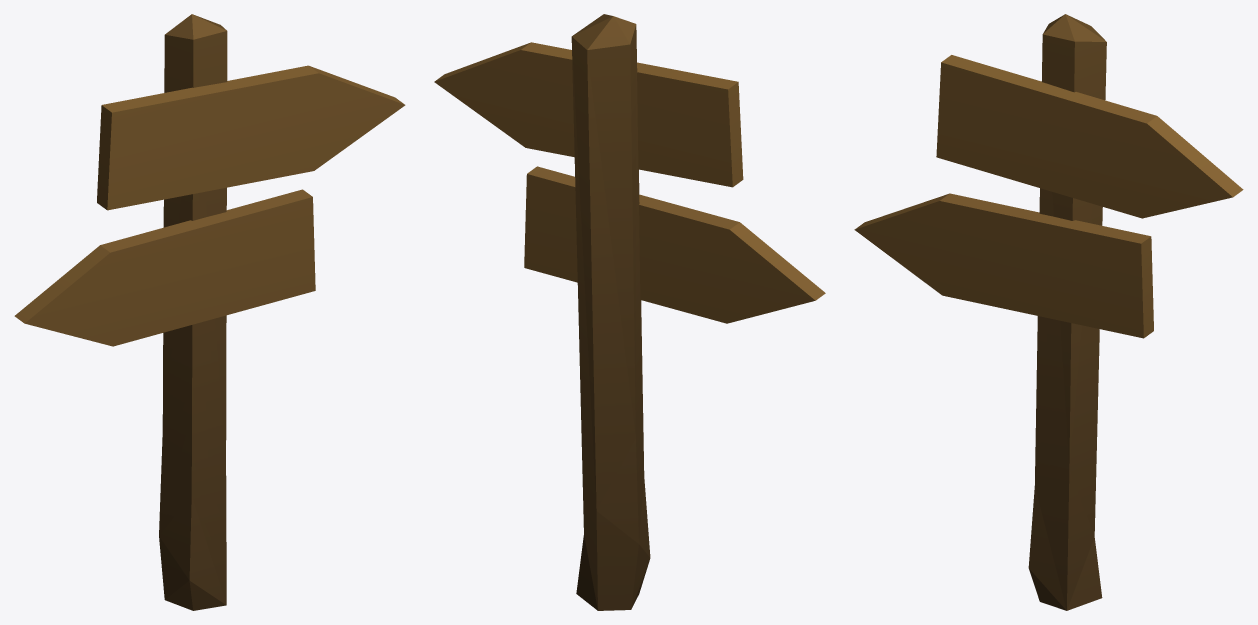
The model's file is Pointer_03.fbx.
3 renders of one model, left to right at view 1: azimuth 30°, elevation 25°; view 2: azimuth 150°, elevation 25°; view 3: azimuth 330°, elevation 25°, orthographic.
Visible parts, largest first — view 1: Pointer_03; view 2: Pointer_03; view 3: Pointer_03.
Part boxes in pixels (bbox=[...]): Pointer_03: bbox=[14, 14, 405, 610]; Pointer_03: bbox=[434, 14, 825, 610]; Pointer_03: bbox=[854, 14, 1243, 610].
Size of the model in its own units: 1.05 by 1.54 by 0.1918.
